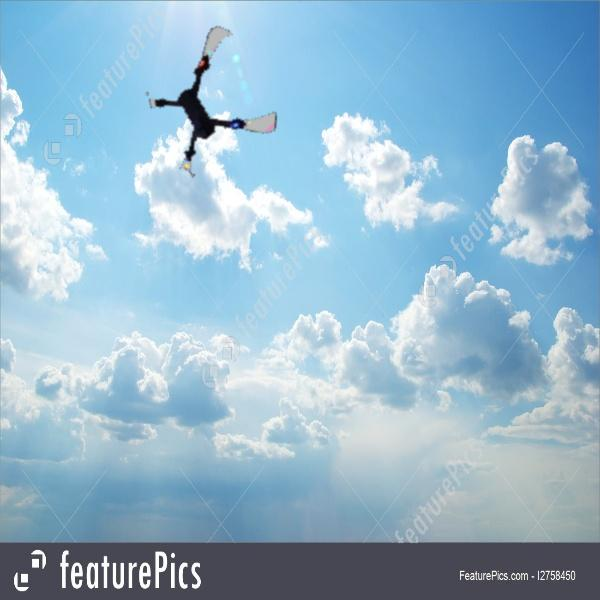drone: (143, 38, 278, 173)
